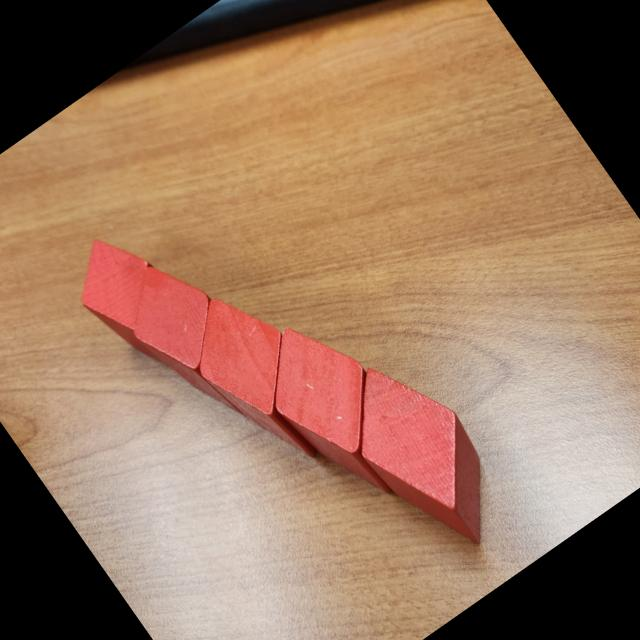red: (320, 341, 526, 572), (239, 303, 432, 521), (166, 274, 351, 484), (105, 245, 278, 440), (54, 218, 206, 384)
